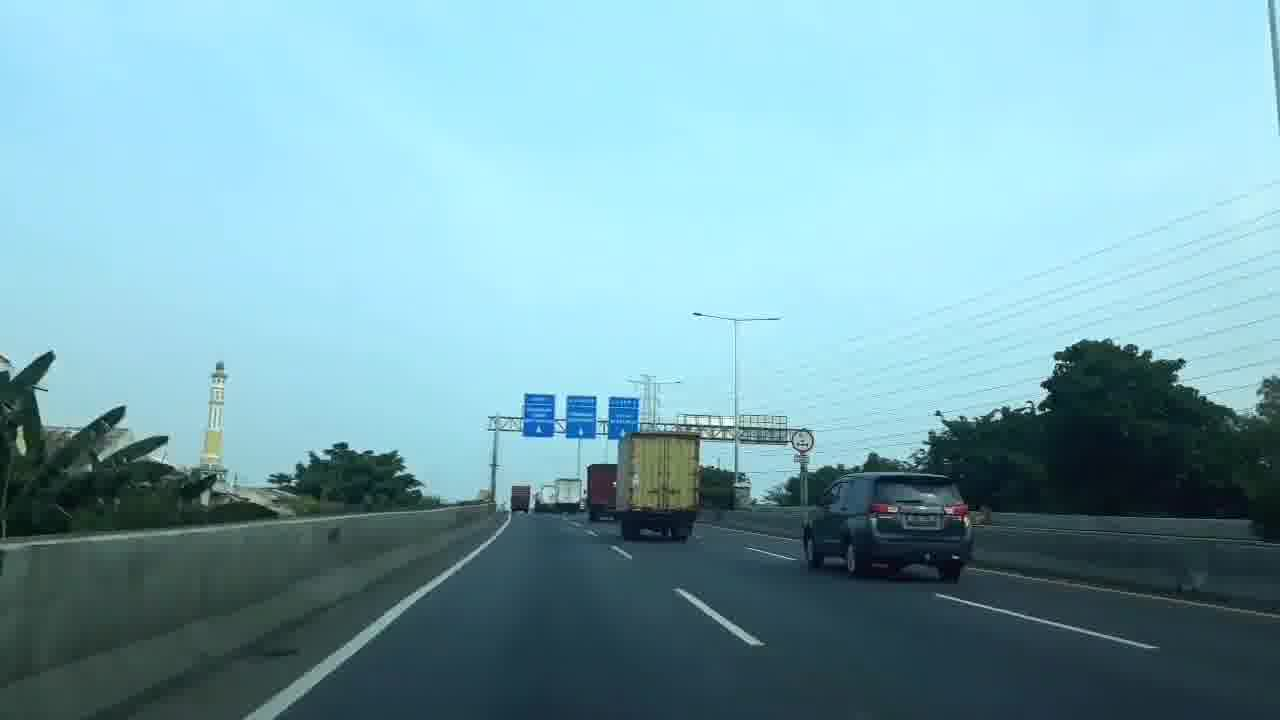plate_positive: (907, 513, 938, 527)
